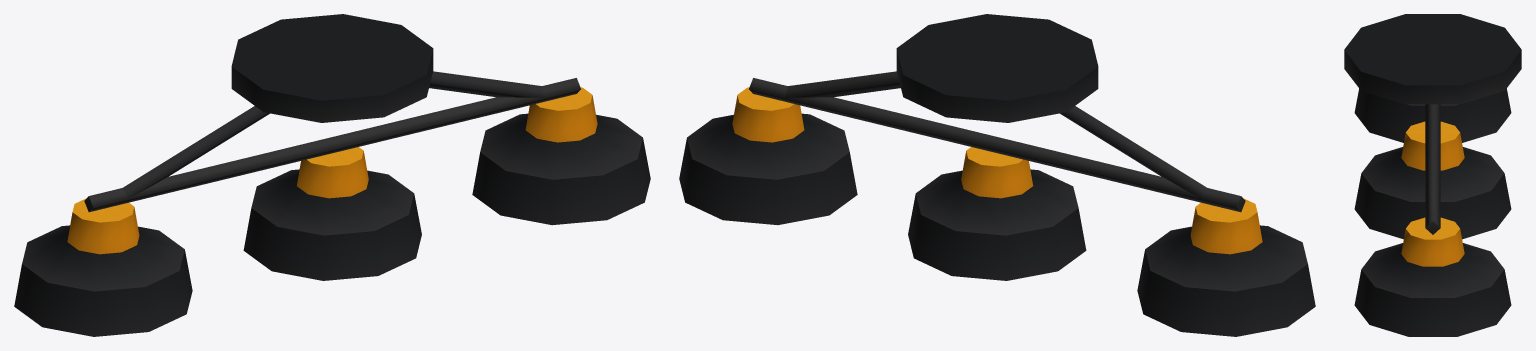
The model's file is TSP_Chandelier_01A.fbx.
The picture shows the model from 3 angles, left to right: view 1: azimuth 30°, elevation 25°; view 2: azimuth 150°, elevation 25°; view 3: azimuth 270°, elevation 25°; orthographic projection. The views are drawn at different scales.
Visible parts, largest first — view 1: TSP_Chandelier_01A; view 2: TSP_Chandelier_01A; view 3: TSP_Chandelier_01A.
Part boxes in pixels (left/top/right/bottom): TSP_Chandelier_01A: left=14, top=14, right=650, bottom=336; TSP_Chandelier_01A: left=679, top=14, right=1315, bottom=336; TSP_Chandelier_01A: left=1344, top=14, right=1521, bottom=336.
Bounding box in the file's own units: 166 × 48.45 × 48.87.
